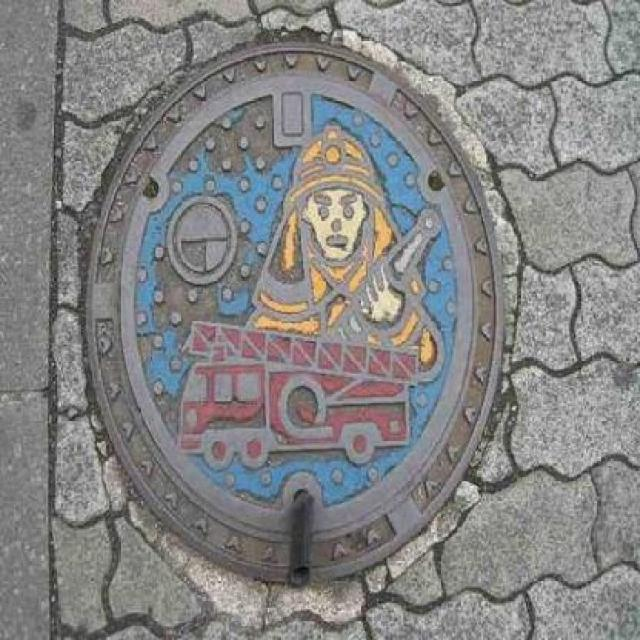Manhole: (81, 35, 528, 600)
